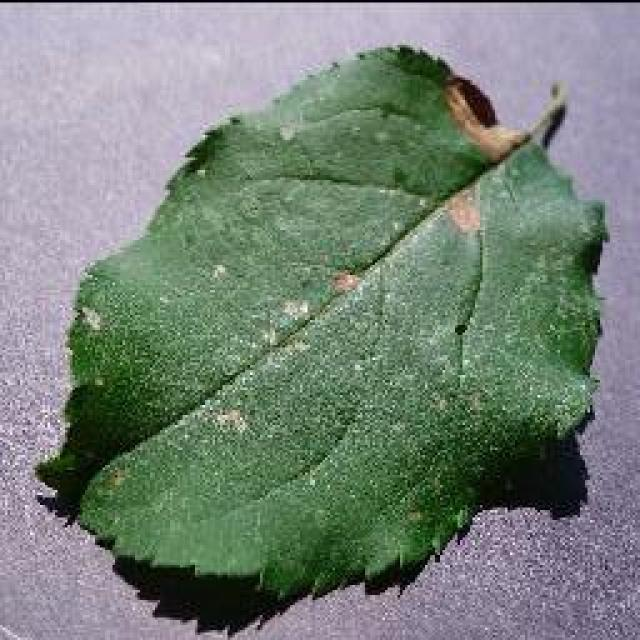Black_rot: (35, 40, 610, 610)
